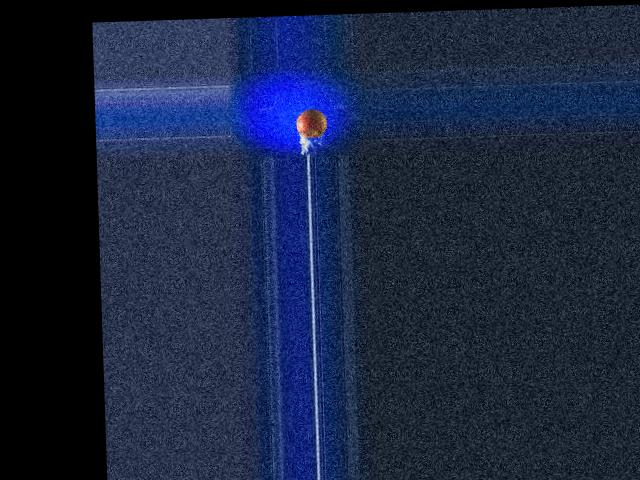tomato: (296, 109, 328, 138)
